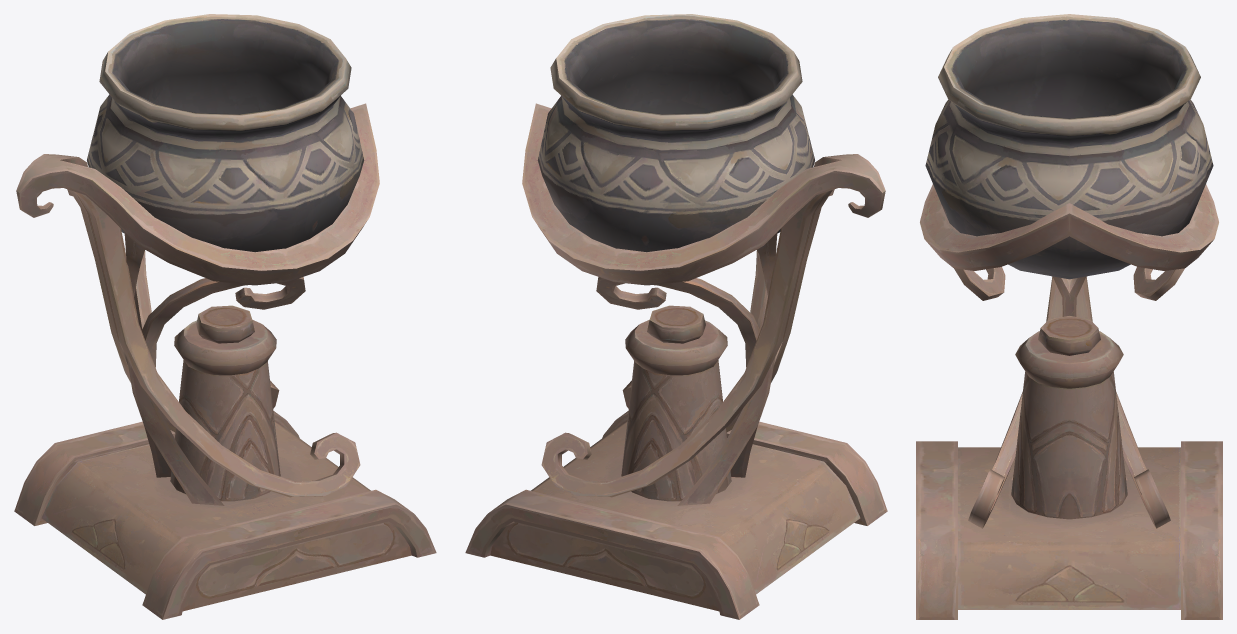
Rendered from Homeworld_Interior_Xm_Thing_Prop_Kettle_01_Lod0.fbx.
3 renders of one model, left to right at view 1: azimuth 30°, elevation 25°; view 2: azimuth 150°, elevation 25°; view 3: azimuth 270°, elevation 25°, orthographic. The views are drawn at different scales.
Parts seen in each view (by area): view 1: Homeworld_Interior_Xm_Thing_Prop_Kettle_01_Lod0; view 2: Homeworld_Interior_Xm_Thing_Prop_Kettle_01_Lod0; view 3: Homeworld_Interior_Xm_Thing_Prop_Kettle_01_Lod0.
Boxes of the visible parts, left/top/right/bottom form: Homeworld_Interior_Xm_Thing_Prop_Kettle_01_Lod0: left=14, top=14, right=436, bottom=619; Homeworld_Interior_Xm_Thing_Prop_Kettle_01_Lod0: left=465, top=14, right=887, bottom=619; Homeworld_Interior_Xm_Thing_Prop_Kettle_01_Lod0: left=916, top=14, right=1222, bottom=619.
Bounding box in the file's own units: 0.5297 × 0.6794 × 0.3907.
Materials: 1 (1 with a texture image).
